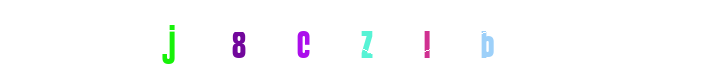8: (253, 0, 333, 80)
B: (389, 0, 469, 80)
C: (263, 0, 343, 80)
J: (130, 0, 210, 80)
L: (315, 0, 395, 80)
Z: (270, 0, 350, 80)
